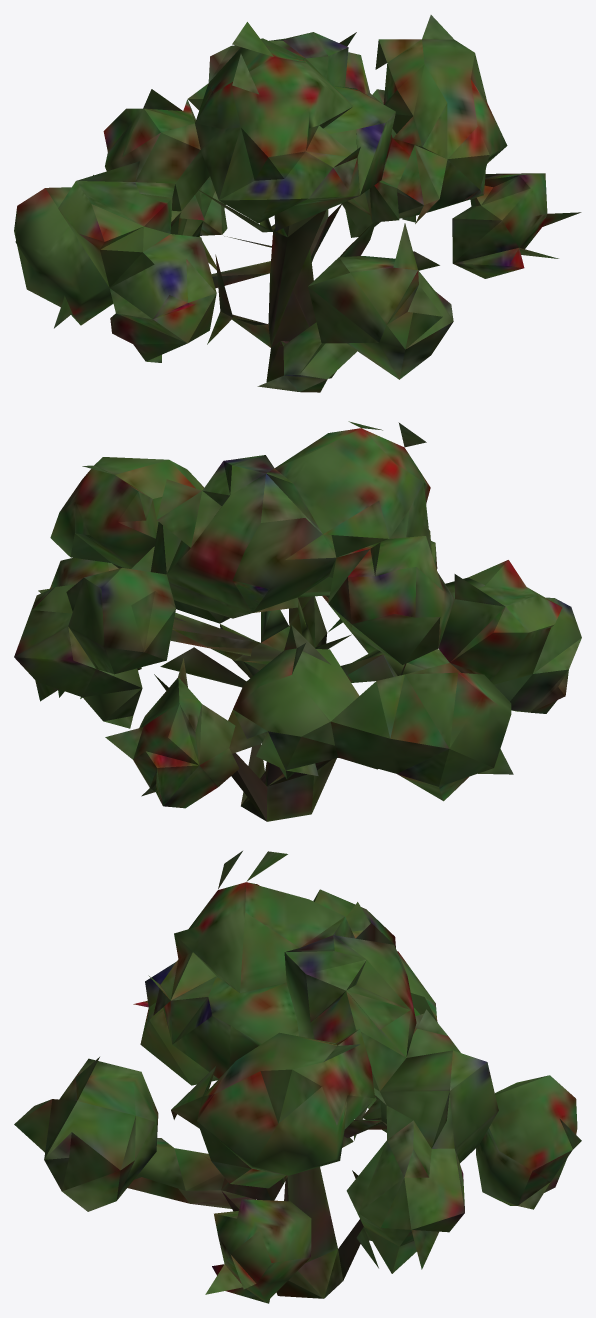
File: arbusto.glb
The picture shows the model from 3 angles, top to bottom: view 1: azimuth 30°, elevation 25°; view 2: azimuth 150°, elevation 25°; view 3: azimuth 270°, elevation 25°; orthographic projection. The views are drawn at different scales.
Visible parts, largest first — view 1: output_unwrapped; view 2: output_unwrapped; view 3: output_unwrapped.
Boxes of the visible parts, <box> form: output_unwrapped: <box>14,15,581,392</box>; output_unwrapped: <box>14,421,581,821</box>; output_unwrapped: <box>14,851,581,1303</box>.
Bounding box in the file's own units: 1.86 × 1.31 × 1.68.
1 material, 1 textured.
